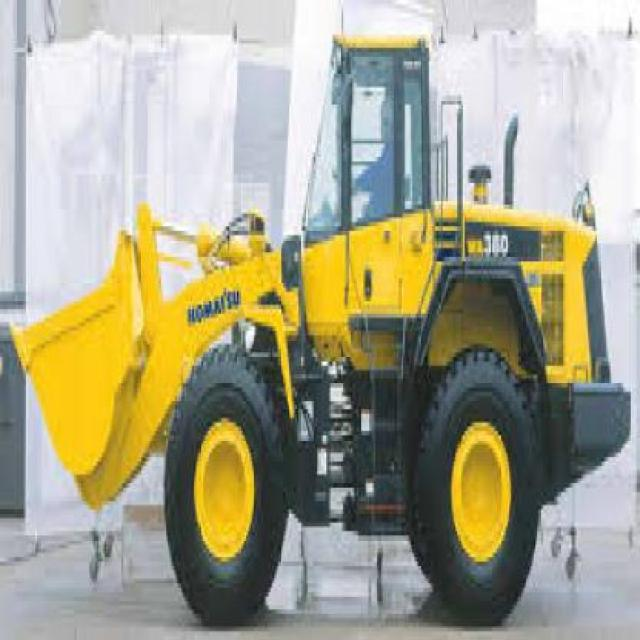buldozerpayloadergrader: (12, 26, 633, 632)
